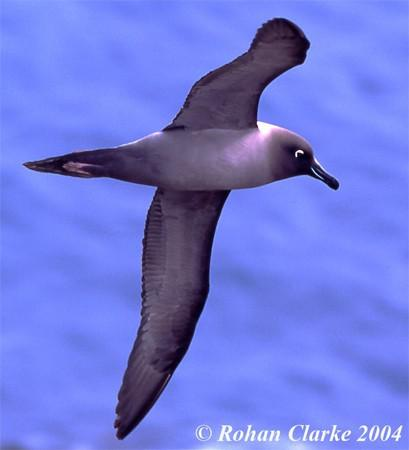003.Sooty_Albatross: (22, 17, 342, 440)
